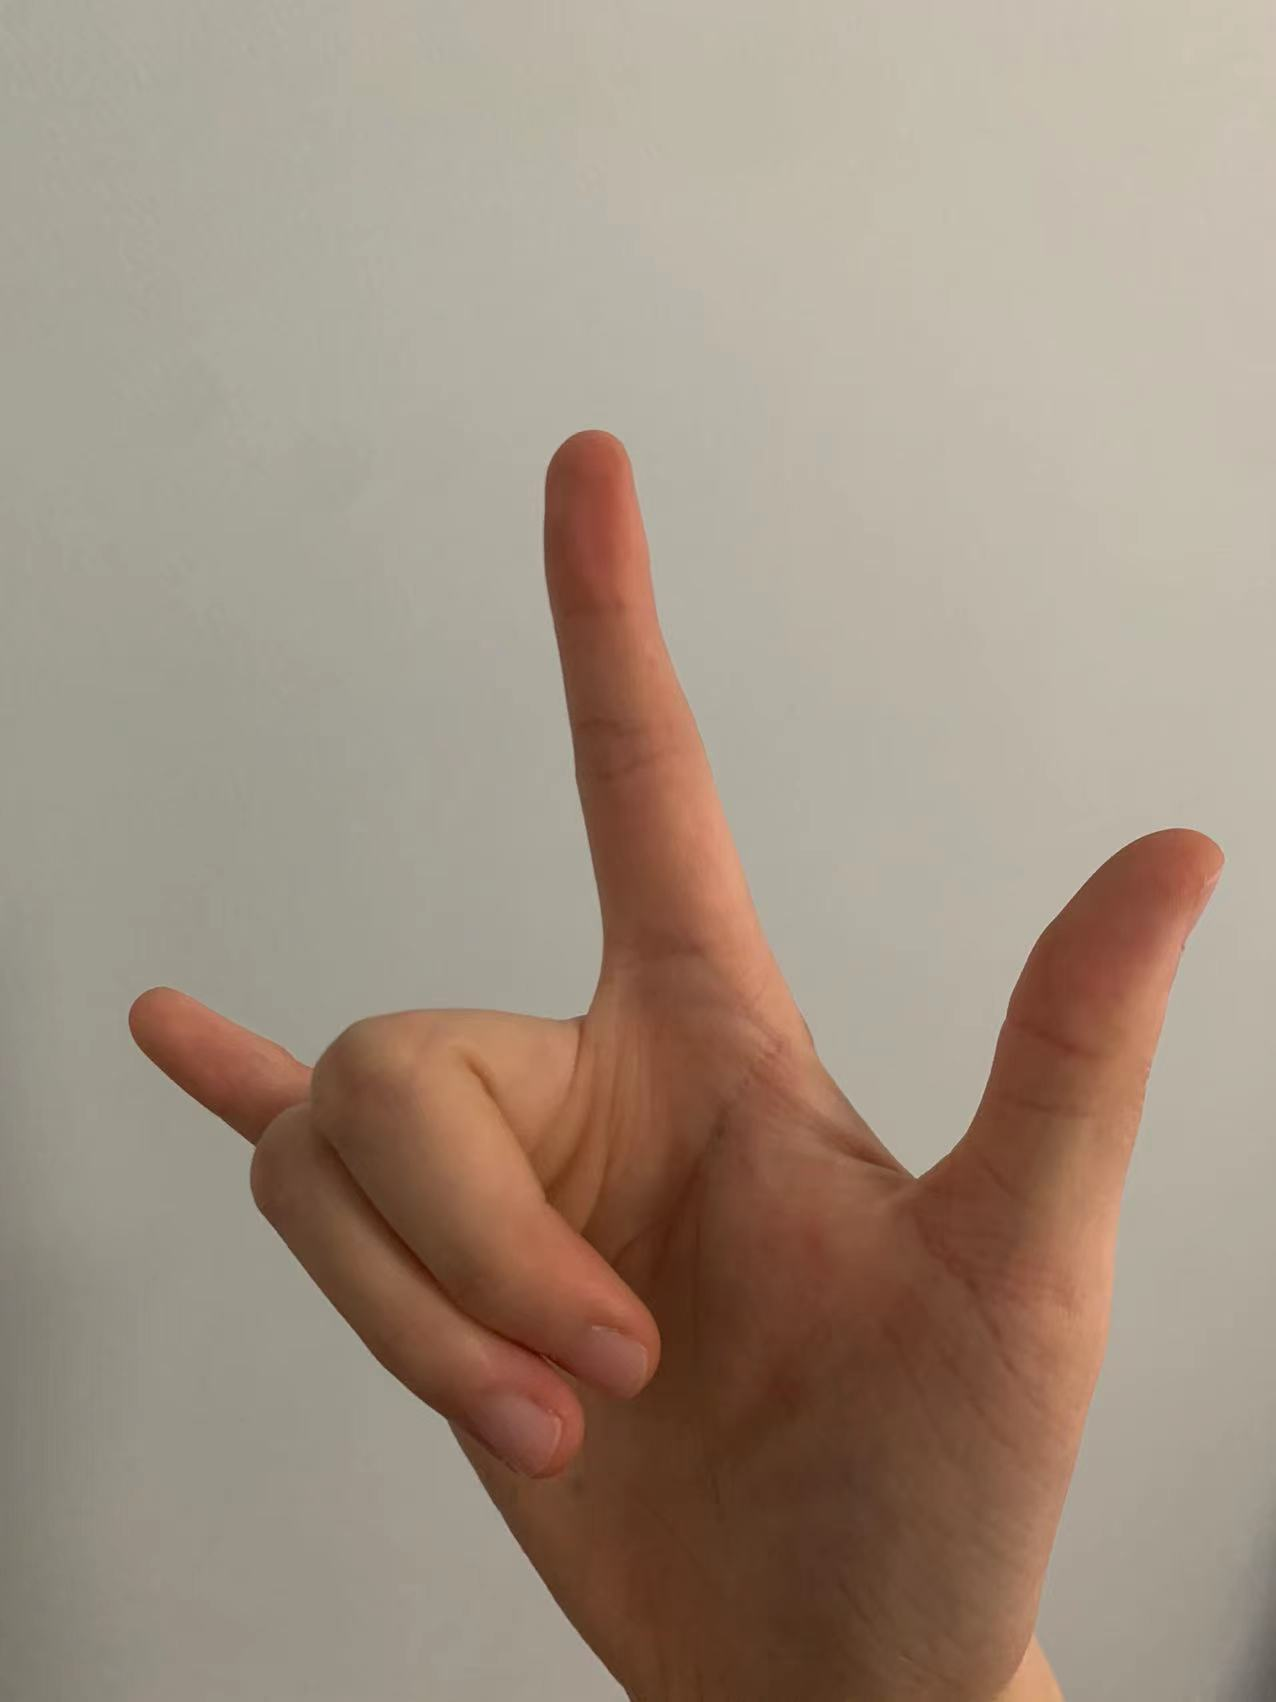back: (102, 422, 1269, 1664)
